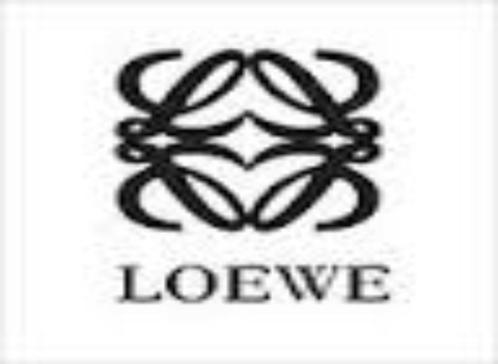LOEWE: (74, 37, 406, 315)
